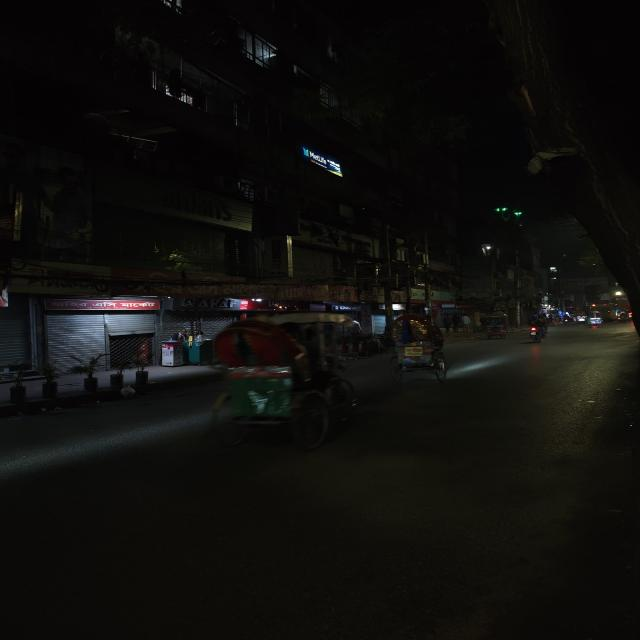motorcycle: (522, 312, 553, 344), (585, 308, 606, 330)
rickshaw: (200, 315, 372, 453), (379, 310, 455, 384), (477, 311, 512, 341)
